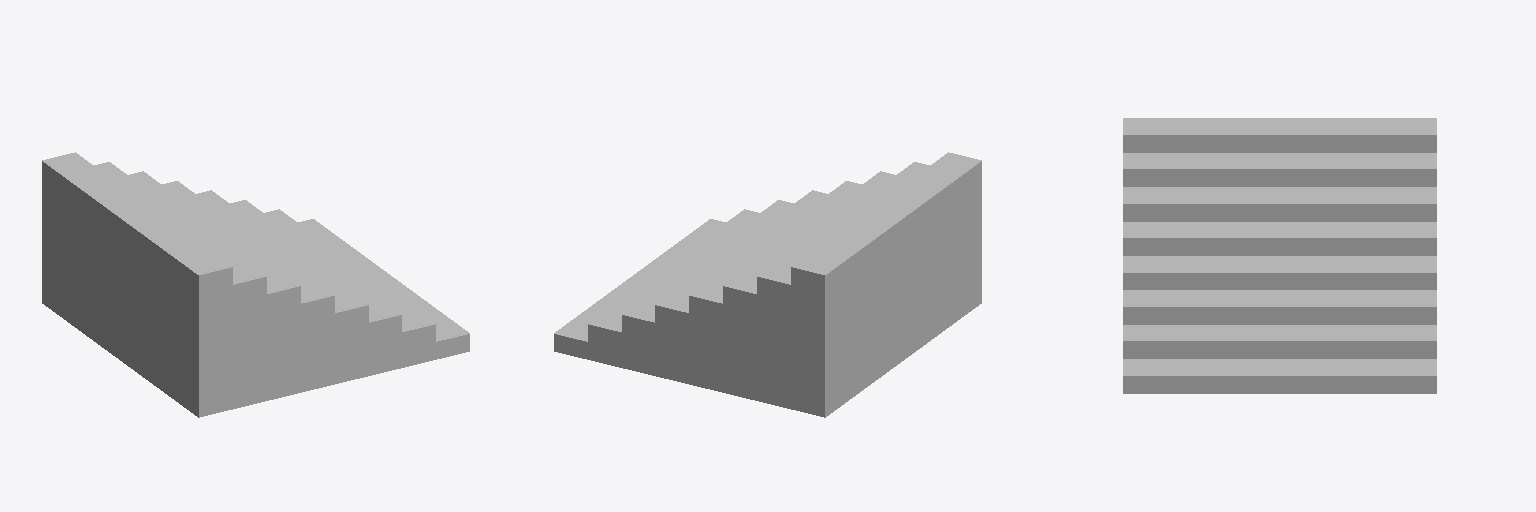
File: RightStairs1.obj
The picture shows the model from 3 angles: view 1: azimuth 30°, elevation 25°; view 2: azimuth 150°, elevation 25°; view 3: azimuth 270°, elevation 25°; orthographic projection.
Visible parts, largest first — view 1: RightStairs1; view 2: RightStairs1; view 3: RightStairs1.
Part boxes in pixels (x1,y1,x2,y2): RightStairs1: (42,152,469,417); RightStairs1: (554,152,981,417); RightStairs1: (1123,118,1436,393).
Size of the model in its own units: 4 by 2 by 4.